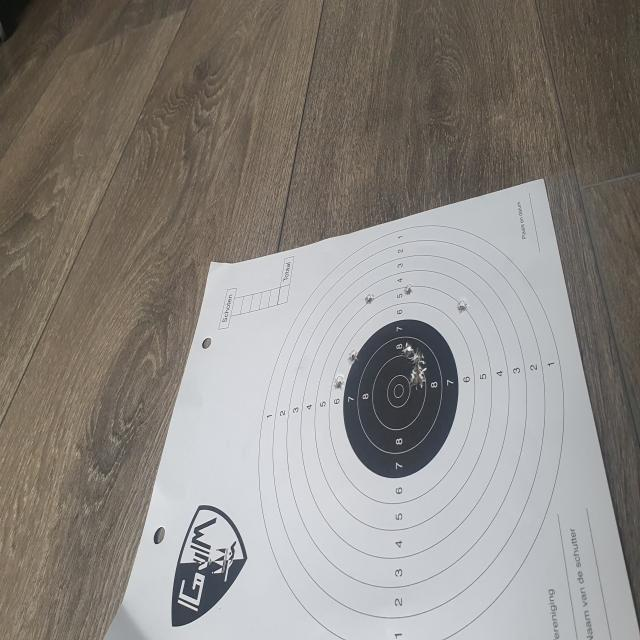5: (456, 296, 469, 317), (404, 282, 415, 298), (364, 291, 374, 306)
6: (333, 375, 345, 392)
7: (348, 348, 358, 365)
8: (403, 342, 411, 360)
9: (418, 370, 426, 390), (410, 370, 417, 390), (413, 350, 421, 366)
Target: (260, 222, 565, 638)
black_contour: (344, 319, 459, 481)
